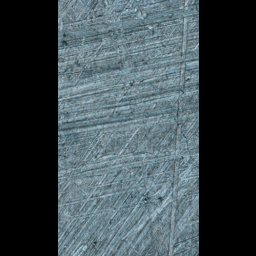d: (94, 0, 168, 255), (57, 126, 198, 185), (164, 0, 194, 255)
